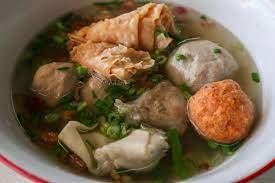bakso: (39, 16, 244, 171)
